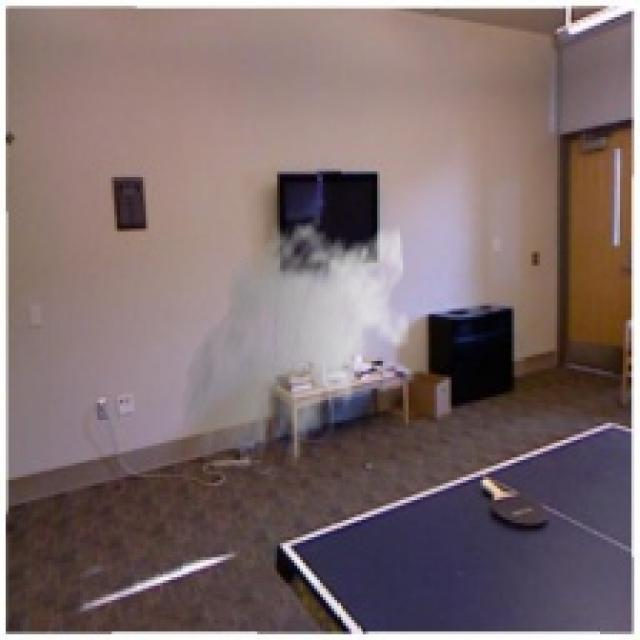Smoke: (180, 211, 412, 480)
